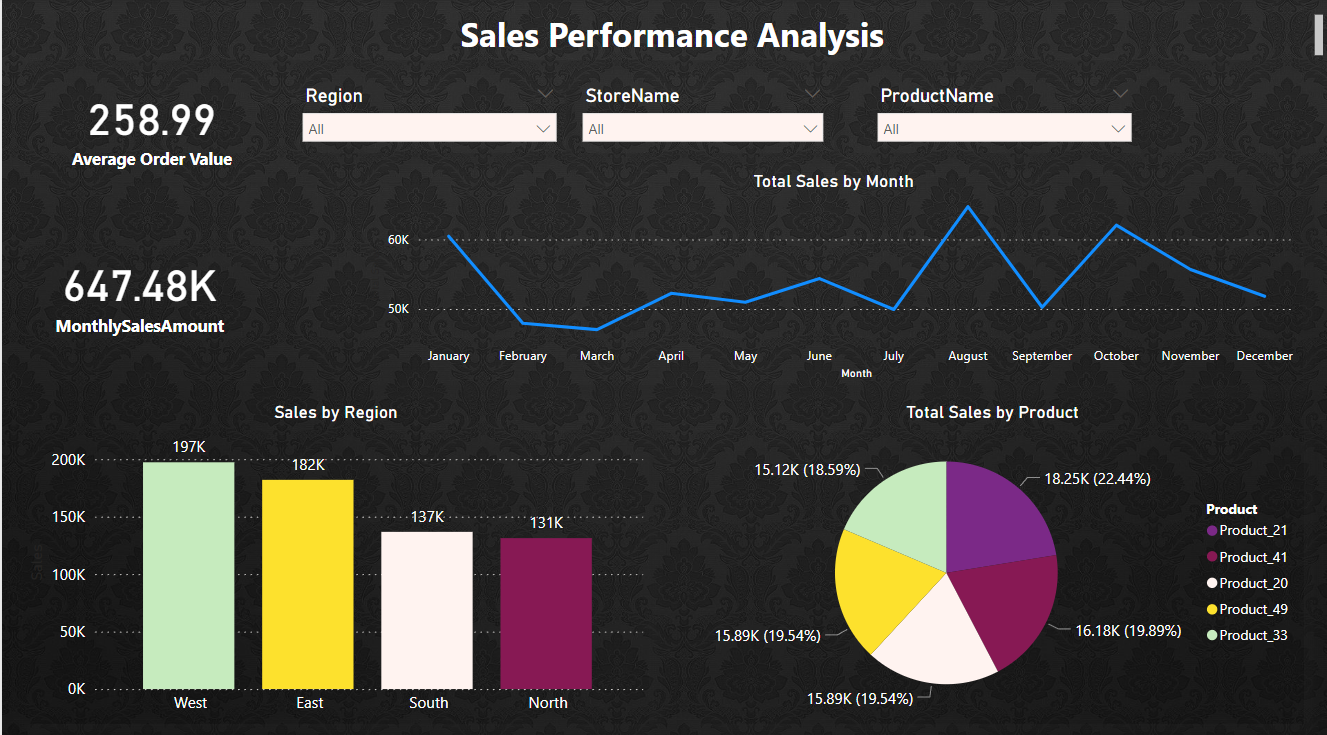

The page's visual inventory and layout, read from the dashboard file:
{"tool":"powerbi","page":{"name":"Sales Performance Analysis ","canvas":[1280,720],"ordinal":0},"visuals":[{"type":"clusteredColumnChart","fields":{"Category":["stores.Region"],"Y":["Sum(sales.SaleAmount)"]},"box":[20.6,389.7,603.8,311.5],"z":0},{"type":"pieChart","fields":{"Category":["produts.ProductName"],"Y":["Dax_expression.Total Sales Amount"]},"box":[655.9,389.7,599.7,311.5],"z":1000},{"type":"textbox","box":[30.2,9.6,1250.1,50.8],"z":2000},{"type":"lineChart","fields":{"Category":["sales.SaleDate.Variation.Date Hierarchy.Month"],"Y":["Dax_expression.MonthlySalesAmount"]},"box":[349.9,166,905.7,207.2],"z":3000},{"type":"slicer","fields":{"Values":["stores.Region"]},"box":[279.9,78.2,264.8,71.4],"z":4000},{"type":"slicer","fields":{"Values":["stores.StoreName"]},"box":[550.3,78.2,252.5,71.4],"z":6000},{"type":"slicer","fields":{"Values":["produts.ProductName"]},"box":[834.3,78.2,264.8,71.4],"z":7001},{"type":"card","fields":{"Values":["Dax_formula.MonthlySalesAmount"]},"box":[0,226.4,266.2,115.3],"z":7002},{"type":"card","fields":{"Values":["Dax_formula.Average Order Value"]},"box":[9.6,70,270.3,107],"z":7003}]}

Visuals, with their boxes in screenshot pixels (x1, y1, x2, y2), scaled from the page's 1280x720 canvas onto the 1327x735 screenshot:
clusteredColumnChart - stores.Region x Sum(sales.SaleAmount): Rect(21, 398, 647, 716)
pieChart - produts.ProductName x Dax_expression.Total Sales Amount: Rect(680, 398, 1302, 716)
textbox: Rect(31, 10, 1326, 62)
lineChart - sales.SaleDate.Variation.Date Hierarchy.Month x Dax_expression.MonthlySalesAmount: Rect(363, 169, 1302, 381)
slicer - stores.Region: Rect(290, 80, 565, 153)
slicer - stores.StoreName: Rect(571, 80, 832, 153)
slicer - produts.ProductName: Rect(865, 80, 1139, 153)
card - Dax_formula.MonthlySalesAmount: Rect(0, 231, 276, 349)
card - Dax_formula.Average Order Value: Rect(10, 71, 290, 181)
